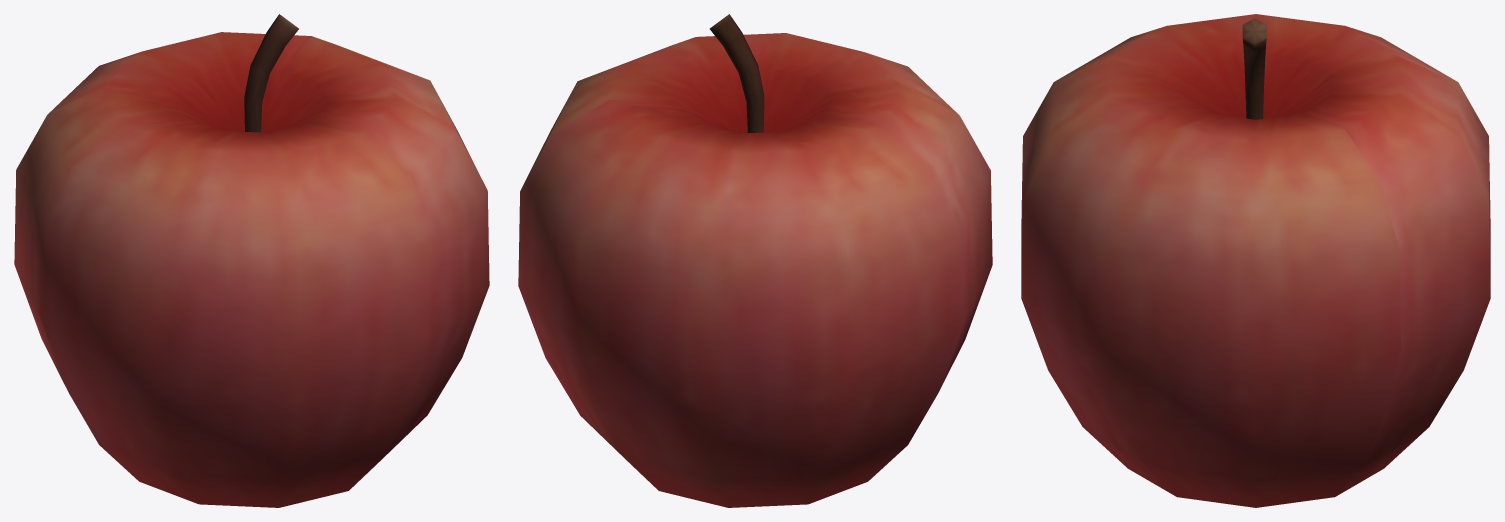
The model's file is NvMingXingJia_02_PingGuo_01.FBX.
3 renders of one model, left to right at view 1: azimuth 30°, elevation 25°; view 2: azimuth 150°, elevation 25°; view 3: azimuth 270°, elevation 25°, orthographic. The views are drawn at different scales.
Parts seen in each view (by area): view 1: TianZhuJiaoTang_01_pingguo_01; view 2: TianZhuJiaoTang_01_pingguo_01; view 3: TianZhuJiaoTang_01_pingguo_01.
Boxes of the visible parts, left/top/right/bottom form: TianZhuJiaoTang_01_pingguo_01: left=14, top=14, right=489, bottom=507; TianZhuJiaoTang_01_pingguo_01: left=518, top=14, right=992, bottom=507; TianZhuJiaoTang_01_pingguo_01: left=1021, top=14, right=1490, bottom=507.
Size of the model in its own units: 55.26 by 56.11 by 52.56.
